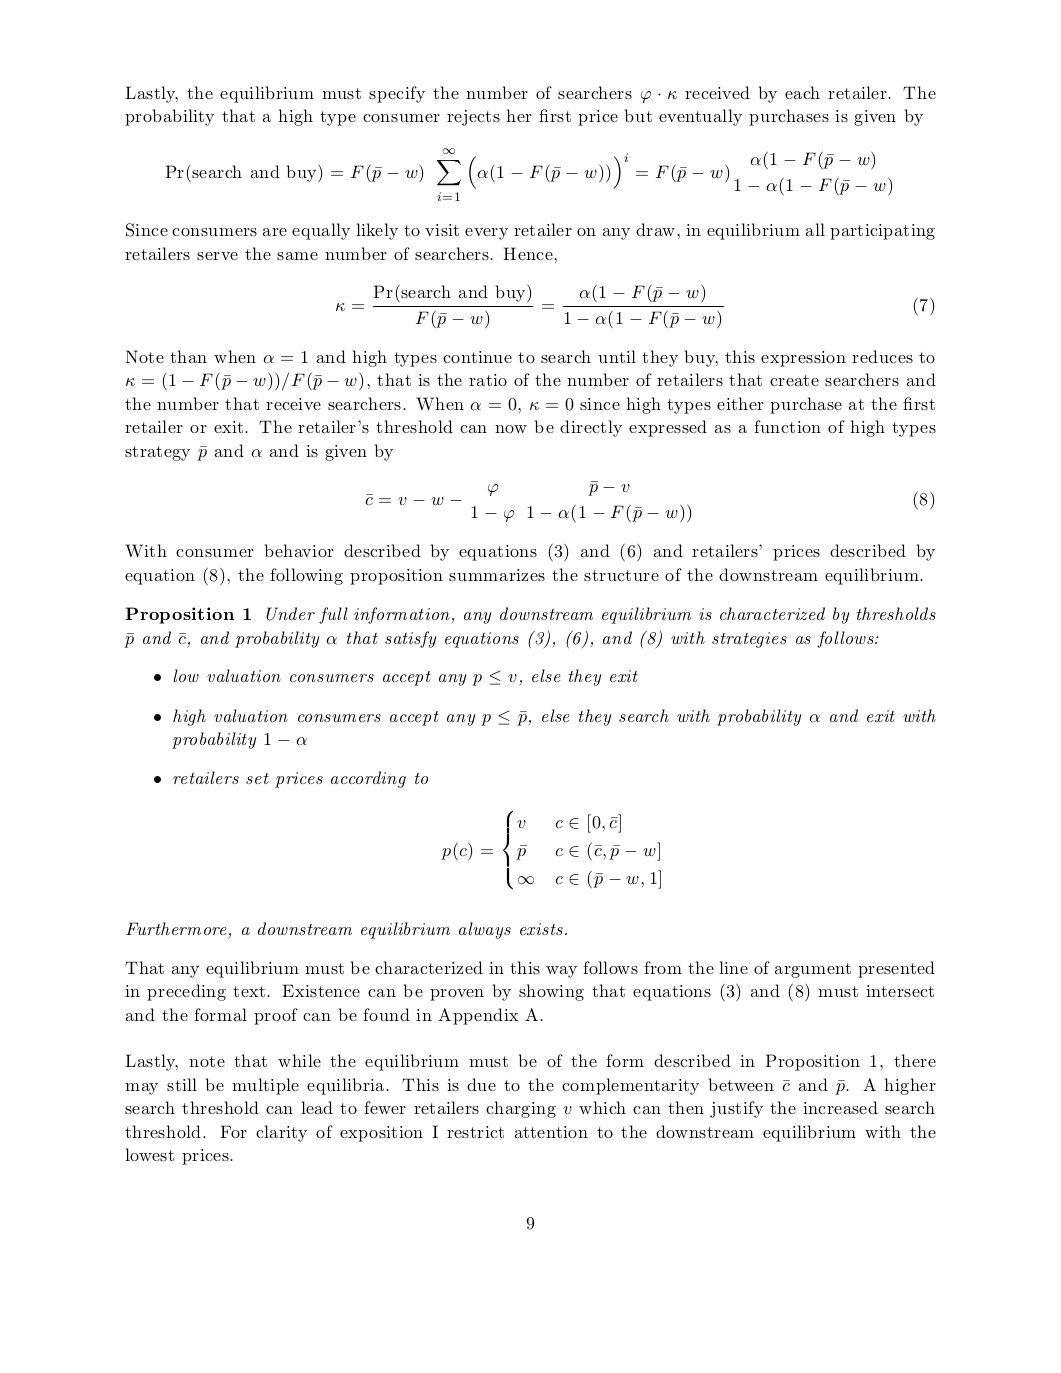formula: (165, 147, 892, 201), (335, 283, 934, 329), (366, 483, 934, 523), (441, 810, 660, 890)
